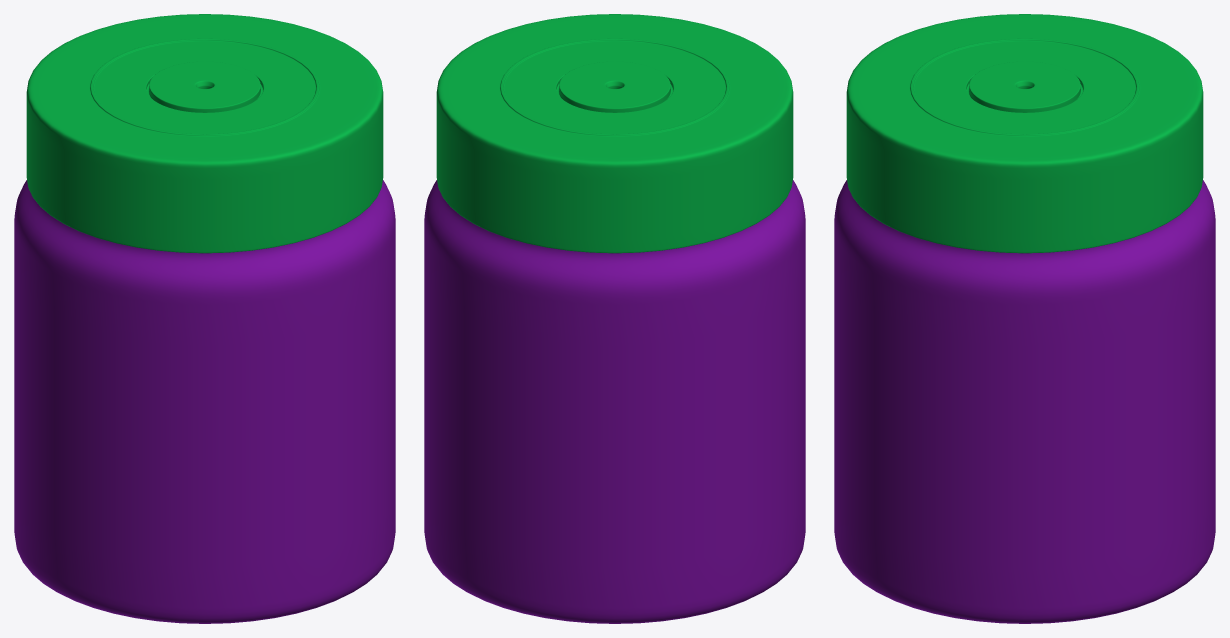
Rendered from SM_Milchbehaelter.fbx.
3 views of the same model, side by side, from view 1: azimuth 30°, elevation 25°; view 2: azimuth 150°, elevation 25°; view 3: azimuth 270°, elevation 25° (orthographic).
Parts seen in each view (by area): view 1: SM_Milchbehaelter; view 2: SM_Milchbehaelter; view 3: SM_Milchbehaelter.
Part boxes in pixels (left/top/right/bottom): SM_Milchbehaelter: left=14, top=14, right=395, bottom=623; SM_Milchbehaelter: left=424, top=14, right=805, bottom=623; SM_Milchbehaelter: left=834, top=14, right=1215, bottom=623.
Bounding box in the file's own units: 9.8 × 13.14 × 9.8.
